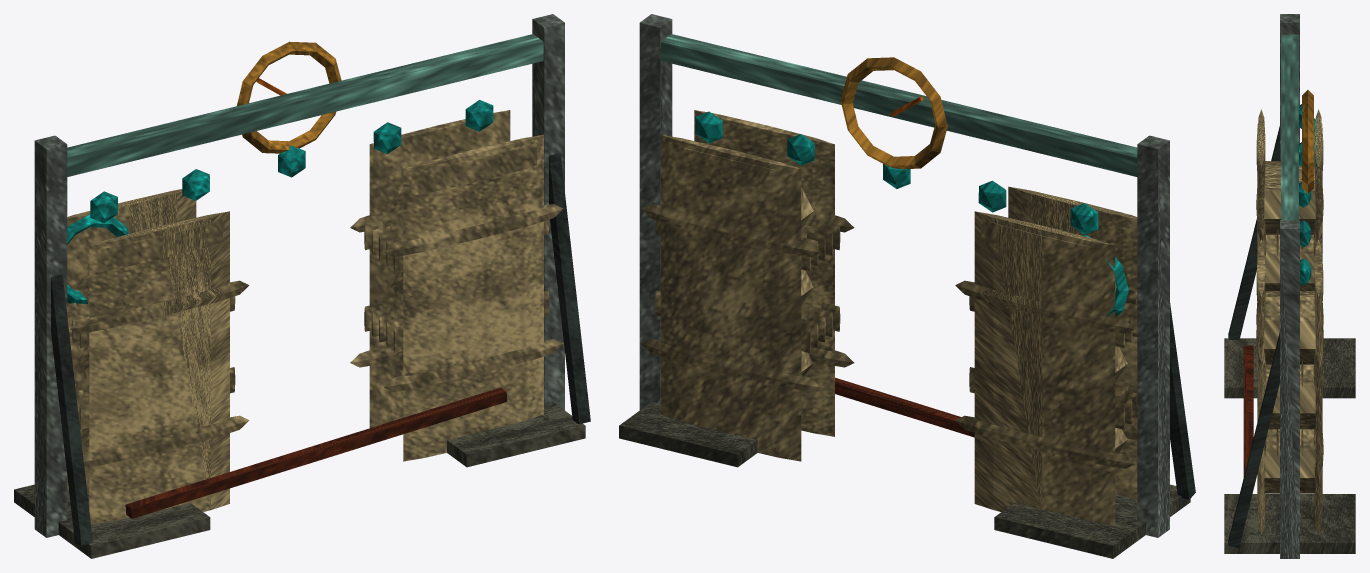
Rendered from west-herd-glow-gate.glb.
3 views of the same model, side by side, from view 1: azimuth 30°, elevation 25°; view 2: azimuth 150°, elevation 25°; view 3: azimuth 270°, elevation 25° (orthographic). The views are drawn at different scales.
Parts seen in each view (by area): view 1: west-herd-glow-gate; view 2: west-herd-glow-gate; view 3: west-herd-glow-gate.
Boxes of the visible parts, left/top/right/bottom form: west-herd-glow-gate: left=14, top=14, right=590, bottom=558; west-herd-glow-gate: left=619, top=14, right=1195, bottom=558; west-herd-glow-gate: left=1224, top=14, right=1355, bottom=558.
Size of the model in its own units: 6.77 by 5.25 by 1.75.
Materials: 1 (1 with a texture image).
